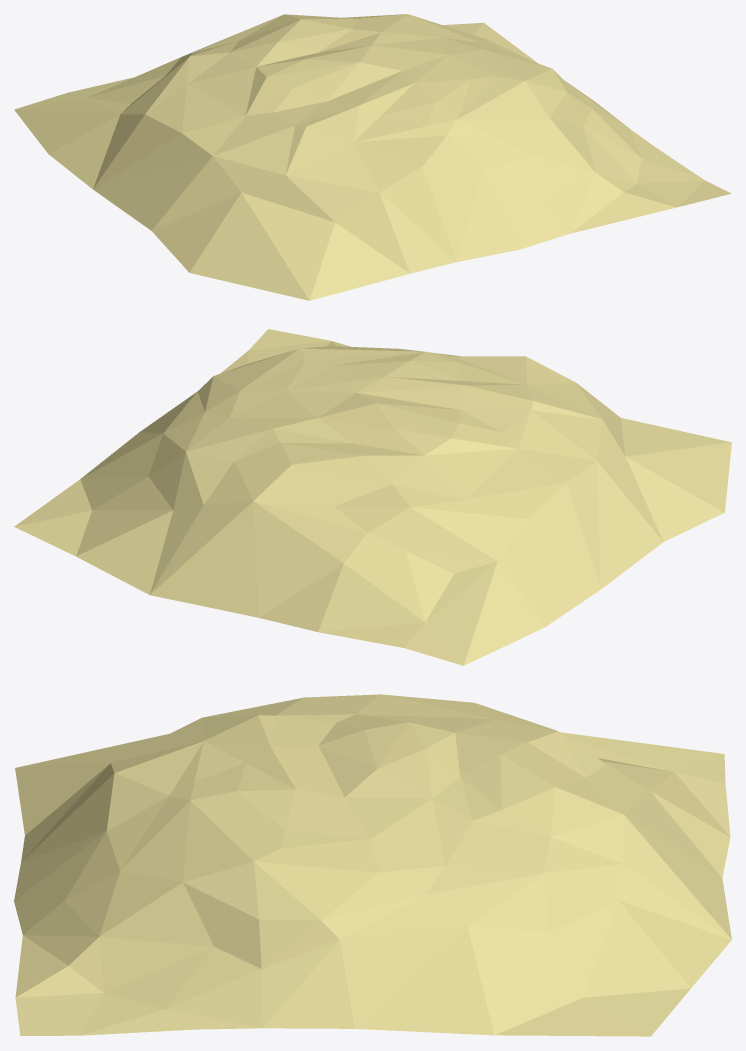
File: Island.fbx
3 views of the same model, one above another, from view 1: azimuth 30°, elevation 25°; view 2: azimuth 150°, elevation 25°; view 3: azimuth 270°, elevation 25° (orthographic). The views are drawn at different scales.
Parts seen in each view (by area): view 1: Island; view 2: Island; view 3: Island.
Part boxes in pixels (x1,y1,x2,y2): Island: [14, 14, 731, 300]; Island: [14, 329, 731, 665]; Island: [14, 694, 731, 1036].
Bounding box in the file's own units: 23.76 × 4.52 × 23.46.
